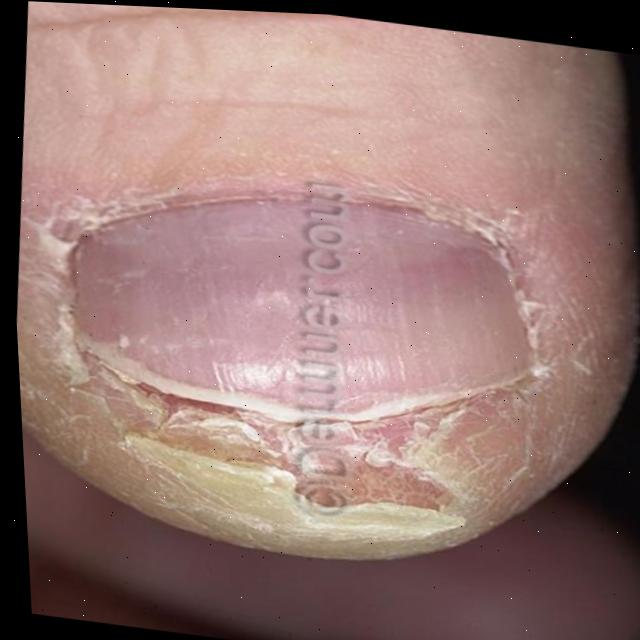Eczema: (90, 368, 543, 573)
